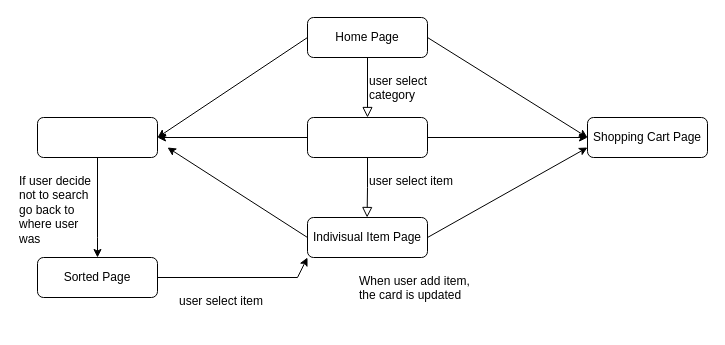
Image size: 725x345. Some labels were removed from this diagram. Here are the shapes that lost their labels. From the top down, the centre of each, then its label:
(97,137): Search Page
(367,137): Indivisual CateogryPage
